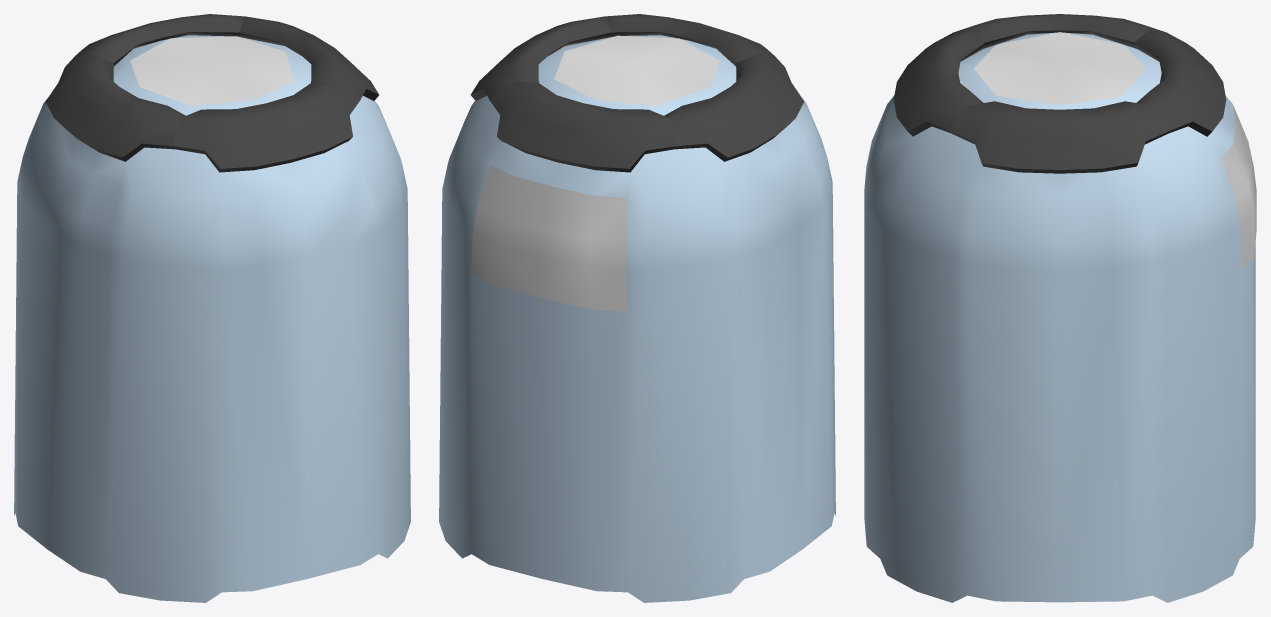
Rendered from obj_characterobject_totebotred_top.fbx.
3 renders of one model, left to right at view 1: azimuth 30°, elevation 25°; view 2: azimuth 150°, elevation 25°; view 3: azimuth 270°, elevation 25°, orthographic. The views are drawn at different scales.
Parts seen in each view (by area): view 1: obj_characterobject_totebotpackage_empty.006; view 2: obj_characterobject_totebotpackage_empty.006; view 3: obj_characterobject_totebotpackage_empty.006.
Part boxes in pixels (x1=…): obj_characterobject_totebotpackage_empty.006: x1=14, y1=14, x2=410, y2=602; obj_characterobject_totebotpackage_empty.006: x1=439, y1=14, x2=835, y2=602; obj_characterobject_totebotpackage_empty.006: x1=864, y1=14, x2=1256, y2=602.
Bounding box in the file's own units: 7.57 × 9.99 × 7.59.
